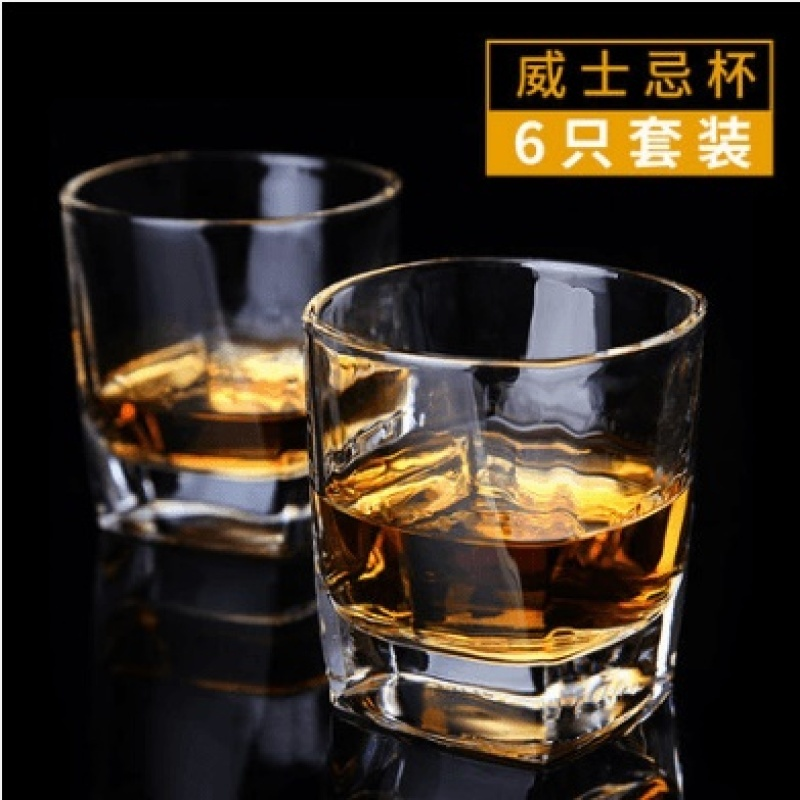whiskey: (323, 257, 683, 739), (58, 150, 384, 521)
